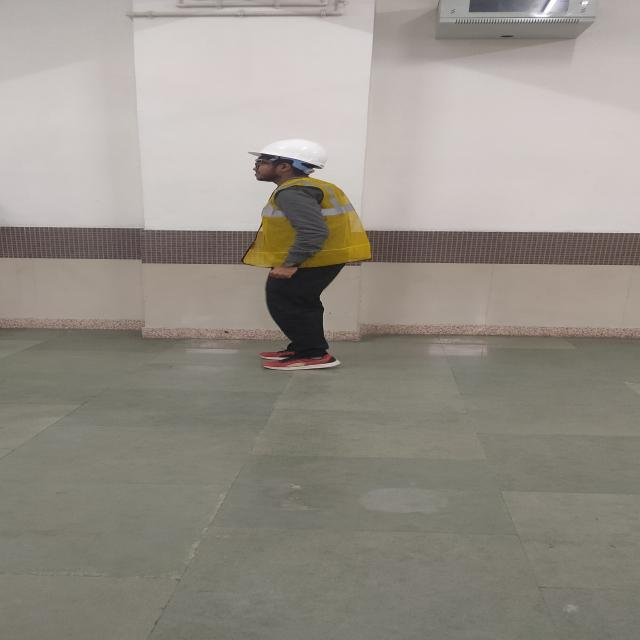safe: (239, 138, 377, 370)
